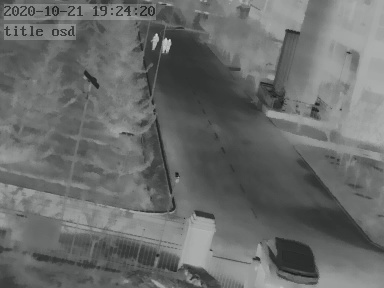person: (162, 34, 170, 54), (153, 34, 161, 54)
vehicle: (255, 235, 318, 286)
